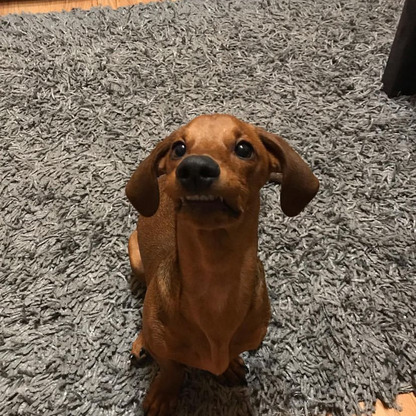dachshund: (94, 94, 330, 379)
